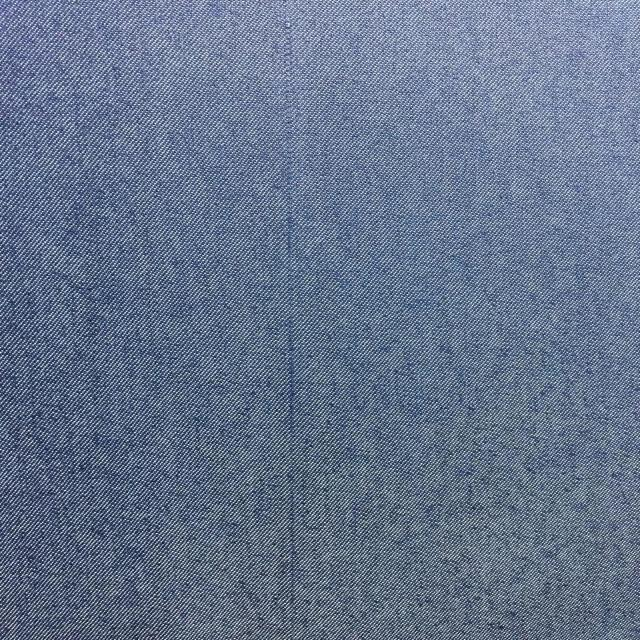Line: (280, 0, 299, 627)
